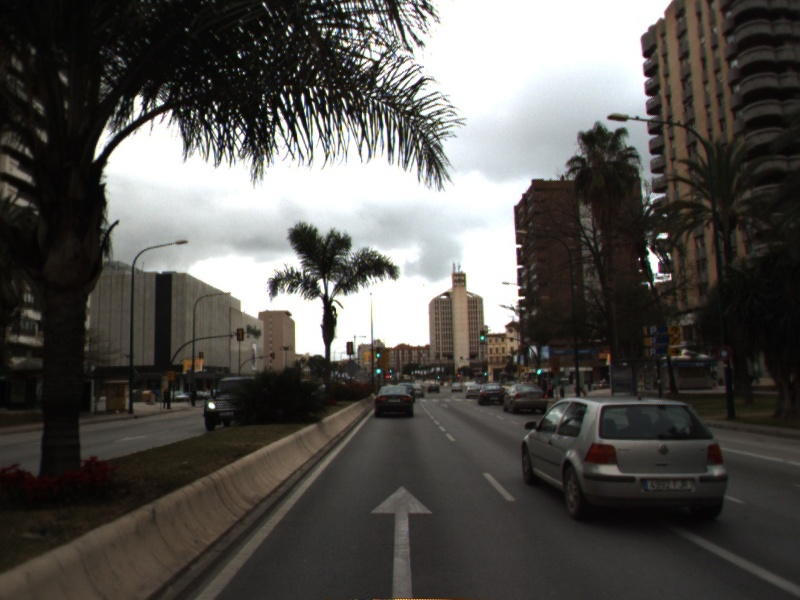STRAIGHT: (367, 482, 437, 600)
